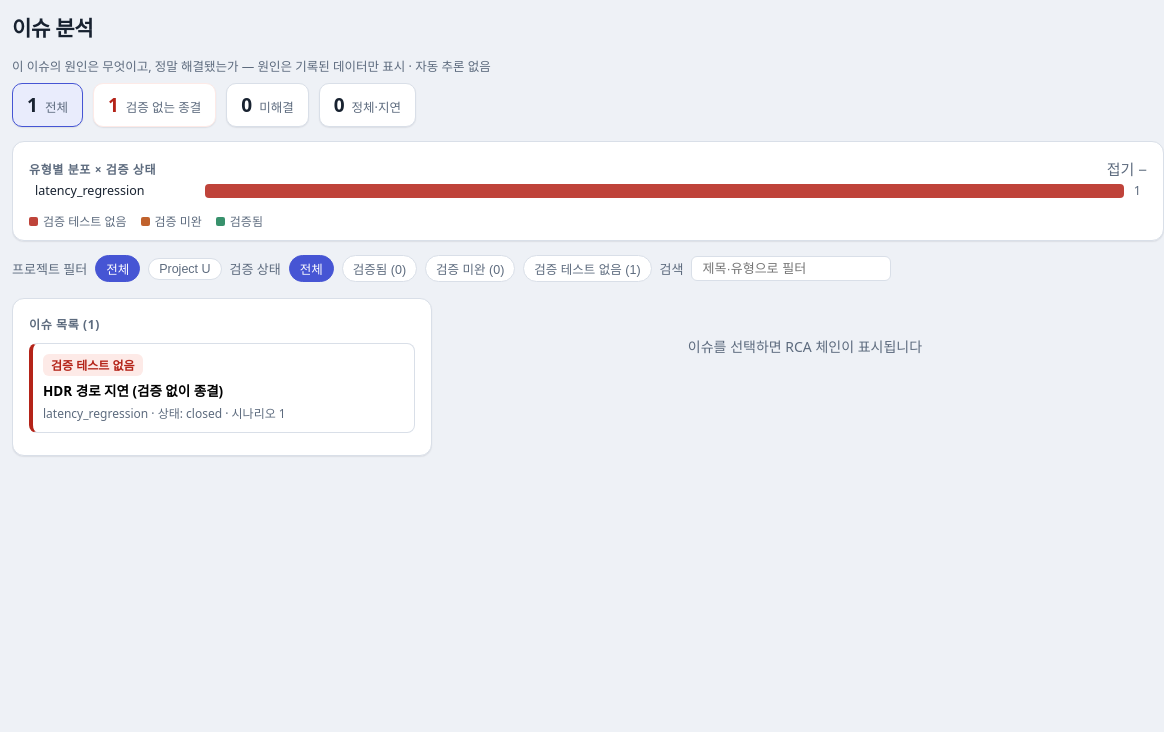
IssueAnalysisPage › 이슈 선택 시 7단 RCA 체인과 경고를 렌더링한다
Click the text "HDR 경로 지연 (검증 없이 종결)": (133, 390) [43, 380, 223, 400]
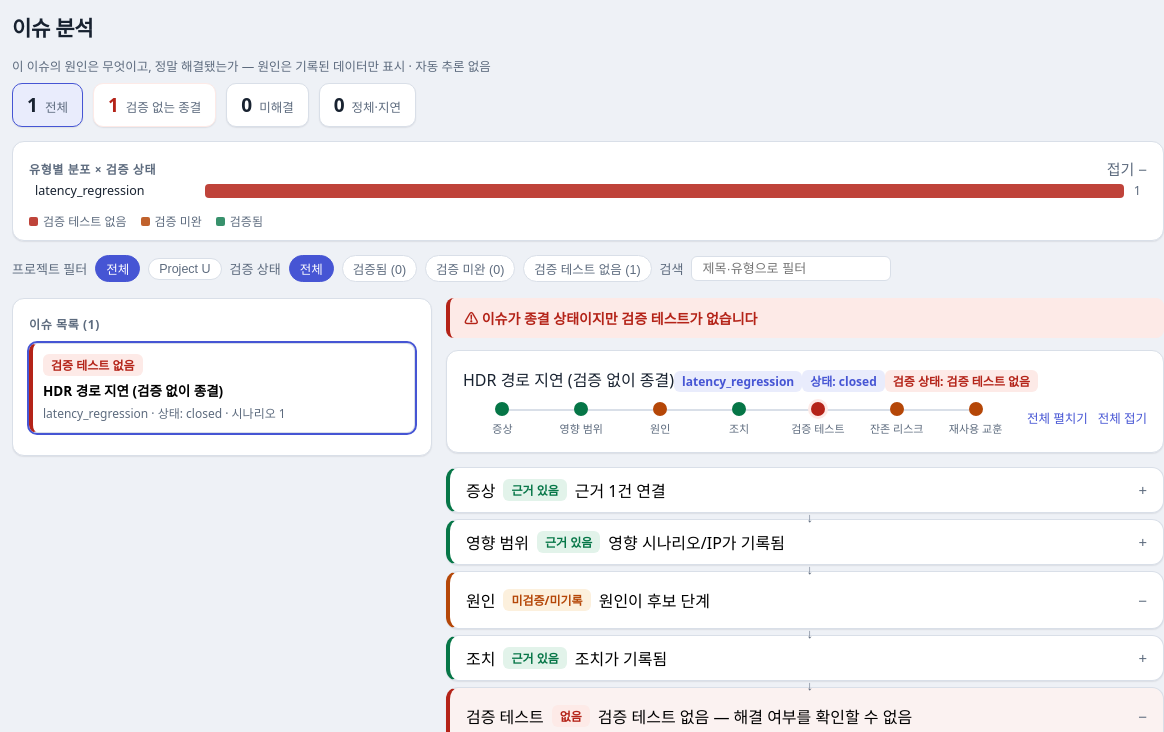
expect the text "⚠ 이슈가 종결 상태이지만 검증 테스트가 없습니다" is shown: met, box [446, 298, 1163, 338]
expect the 1st text "증상" is shown: met, box [492, 420, 513, 436]
expect the 1st text "영향 범위" is shown: met, box [560, 420, 603, 436]
Click the button "전체 펼치기": (1057, 414) [1027, 402, 1088, 427]
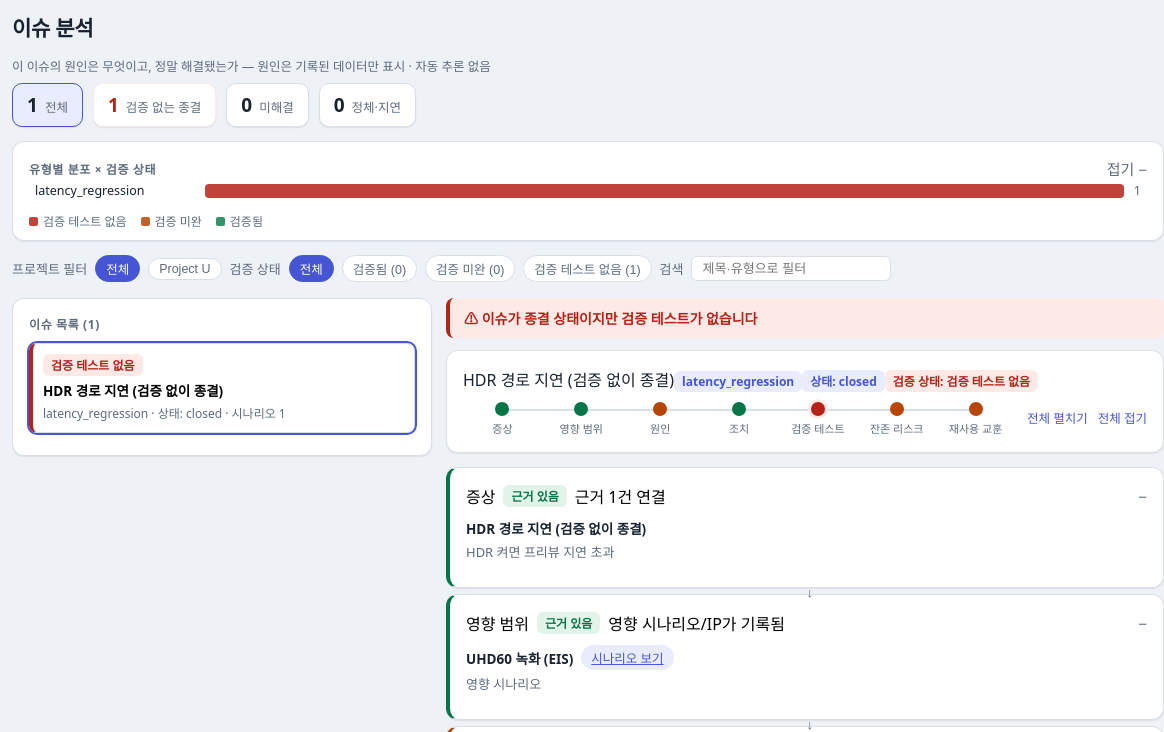
expect the link "시나리오 보기" is shown: met, box [581, 645, 674, 670]
